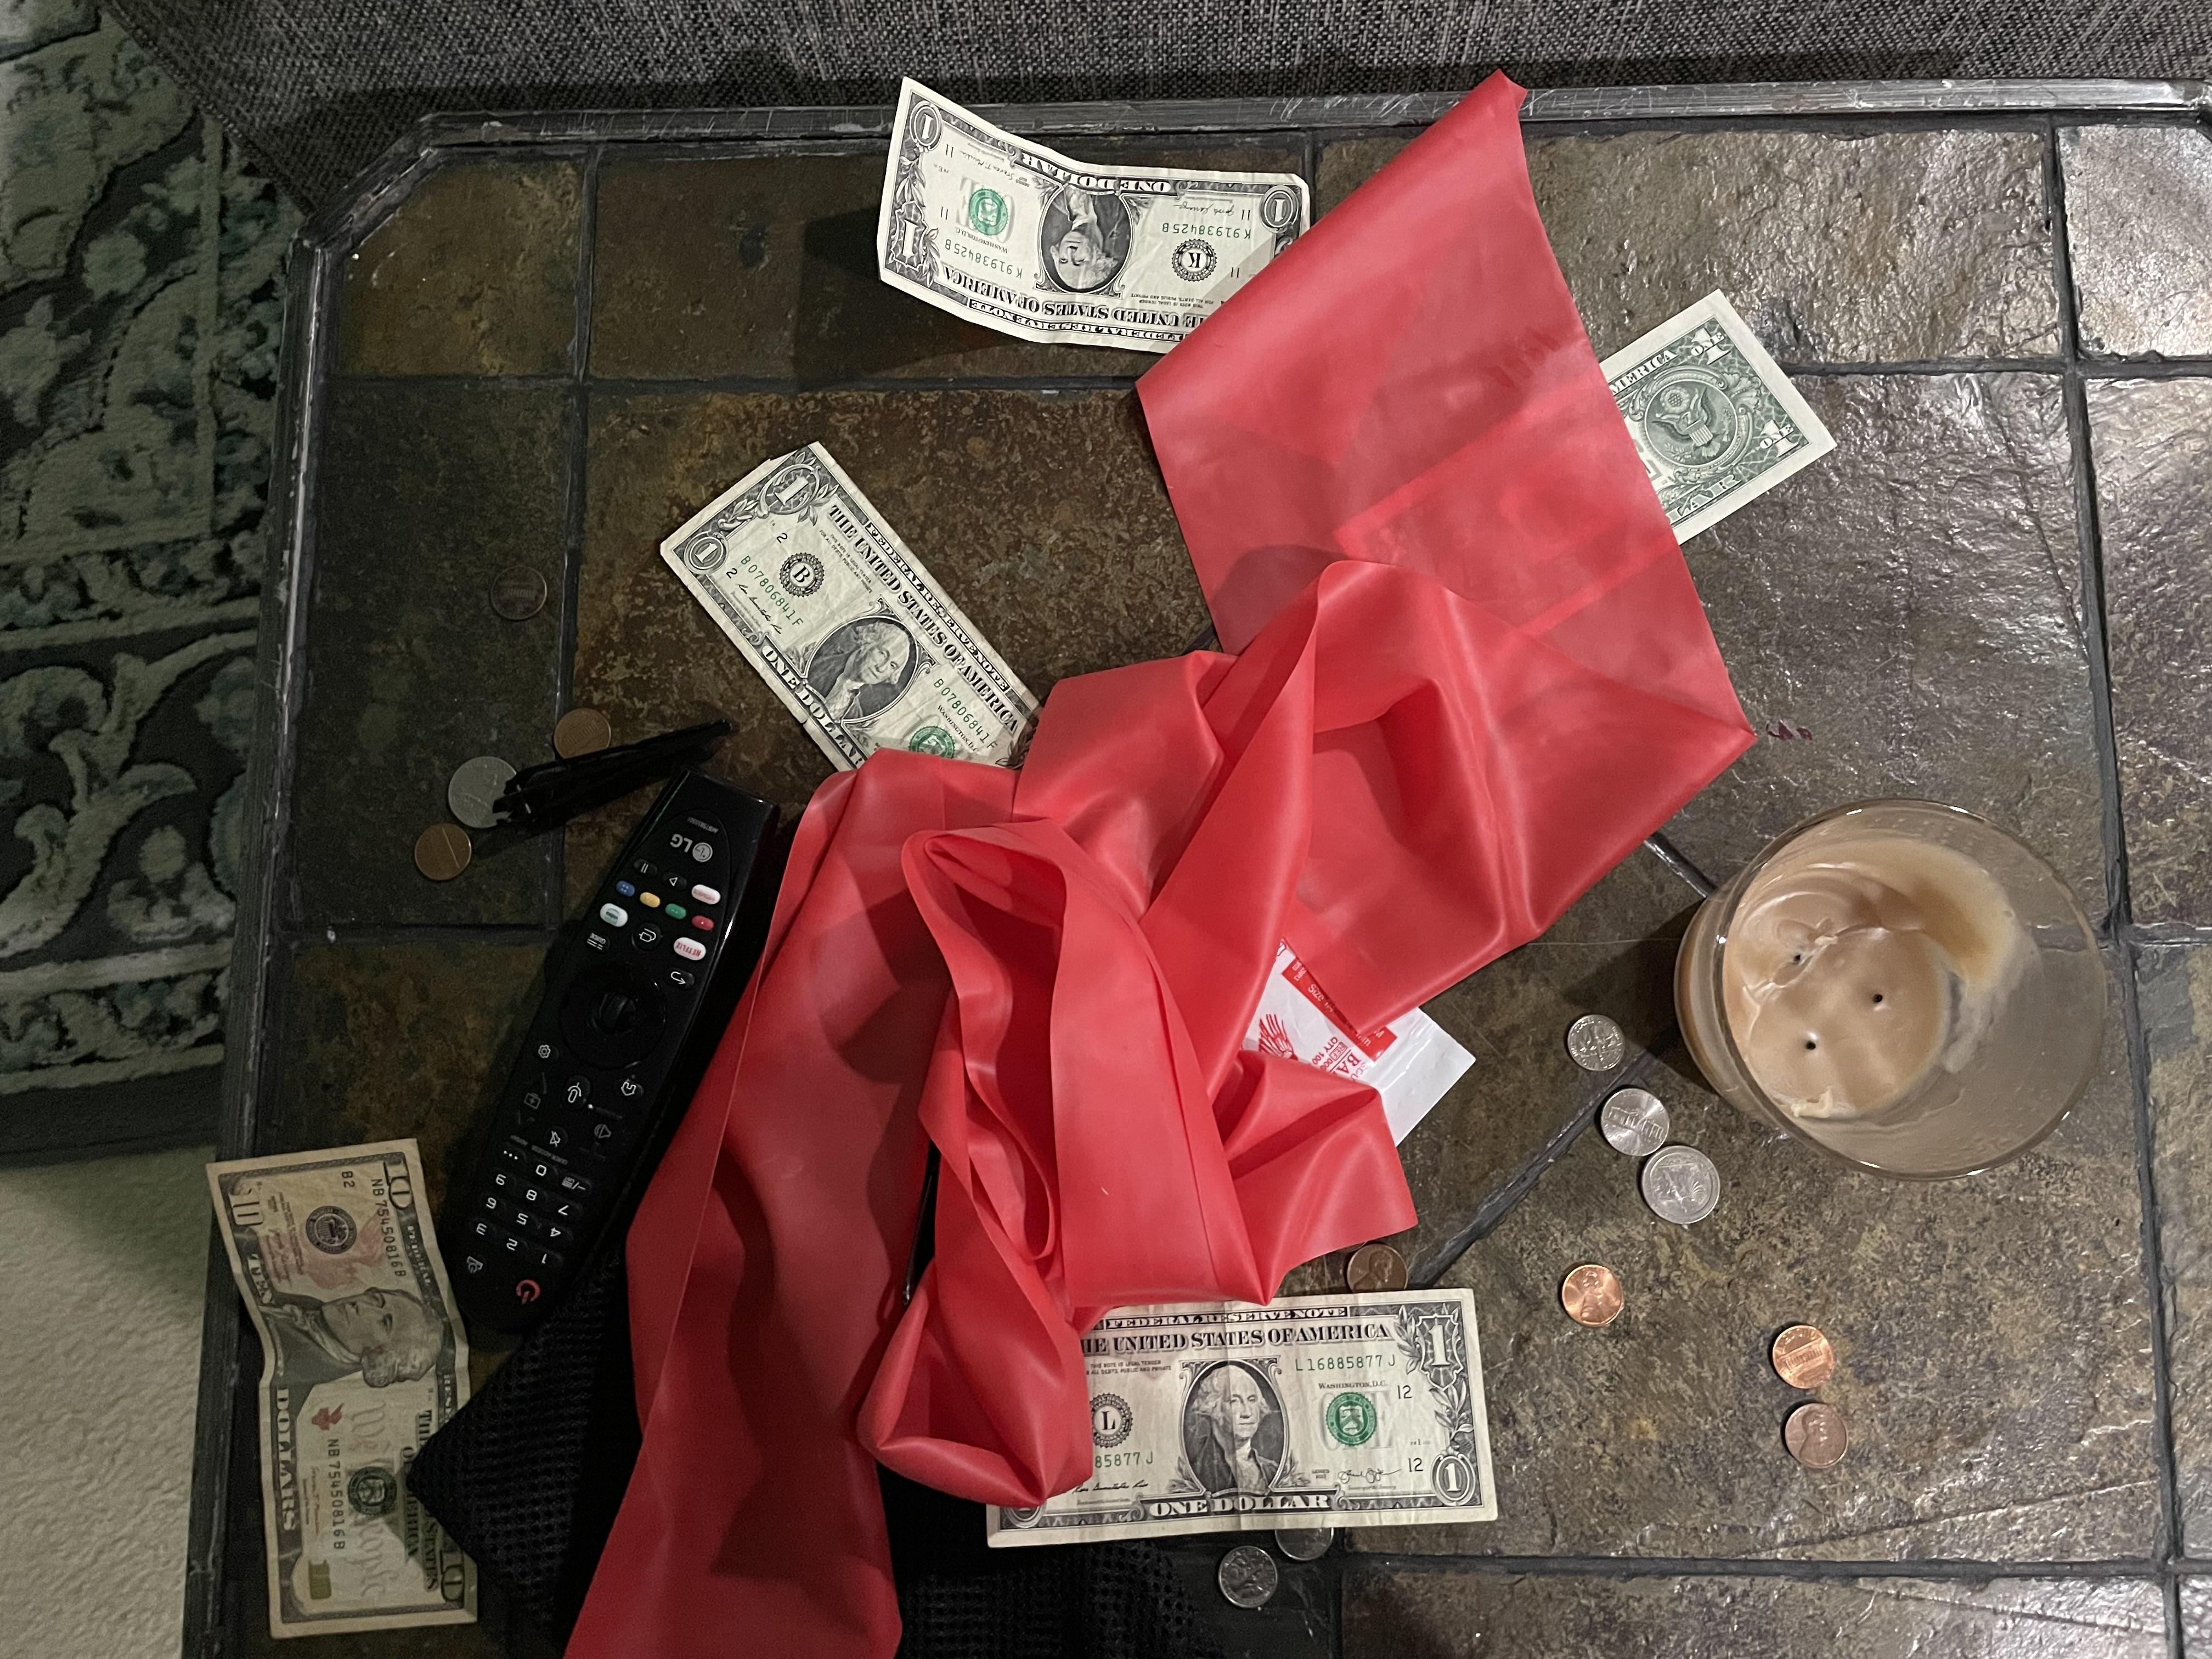Dime: (1564, 1004, 1637, 1070), (1217, 1547, 1284, 1608)
Nickel: (1595, 1087, 1676, 1161)
OneBill: (648, 436, 1068, 805), (968, 1284, 1524, 1563), (869, 68, 1329, 378)
Penny: (1555, 1260, 1639, 1340), (1777, 1399, 1860, 1478), (1332, 1237, 1420, 1298), (1771, 1321, 1843, 1391), (484, 565, 554, 627), (409, 823, 475, 887), (549, 706, 620, 765)
Quarter: (437, 751, 533, 831), (1641, 1147, 1735, 1225)
TenBill: (200, 1127, 507, 1643)
